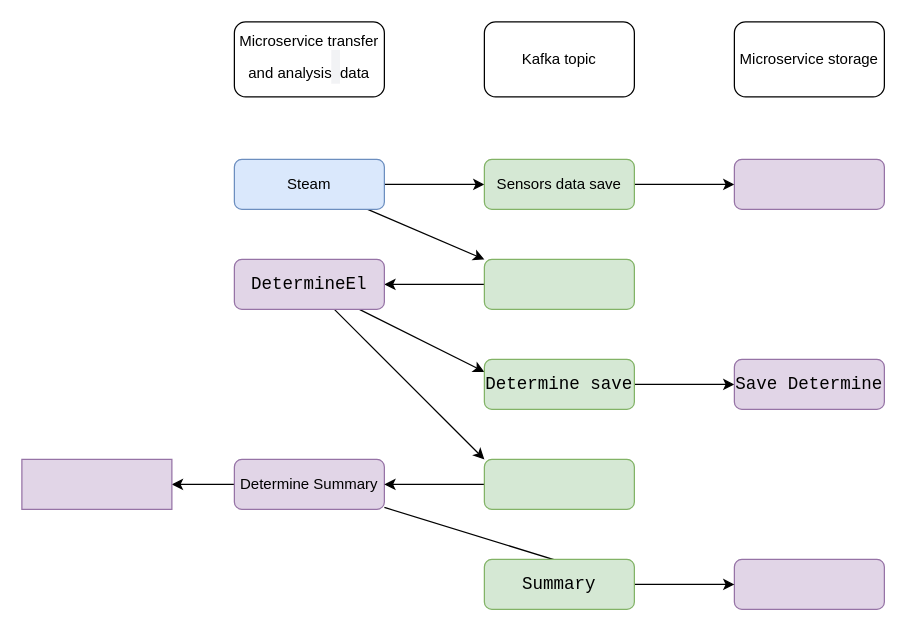
Image size: 906x631. Some labels were removed from this diagram. The shapes that lost their labels are listed below. From the top down, each one's centre as x and y in pixels, then its label:
At (x=808, y=183): "Save sensors data".
At (x=558, y=283): "Sensors data".
At (x=96, y=483): "Store local analysise session (Redis)".
At (x=558, y=483): "Determine".
At (x=808, y=583): "Save summary".
